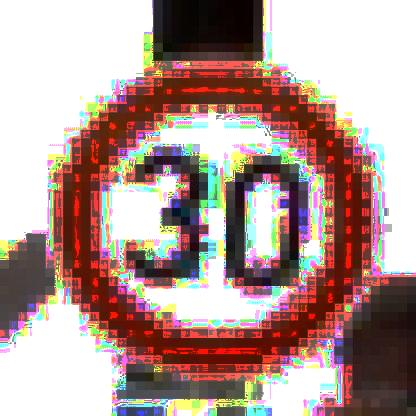Speed Limit -30-: (49, 59, 378, 371)
